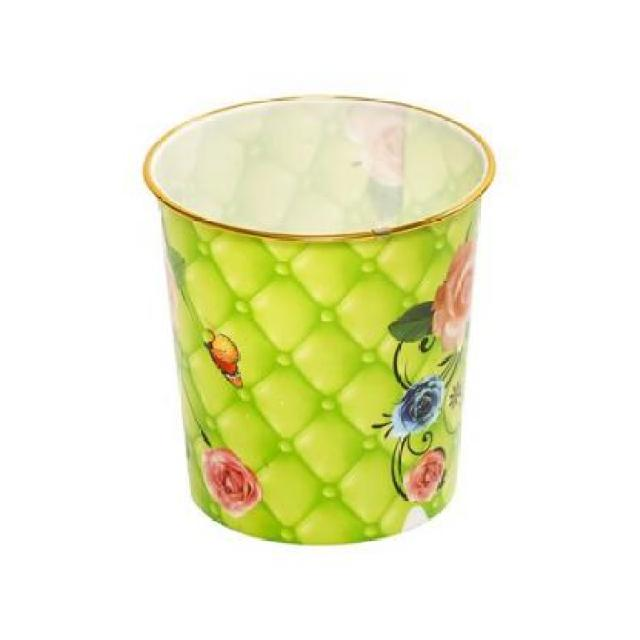dustbin: (138, 88, 504, 550)
